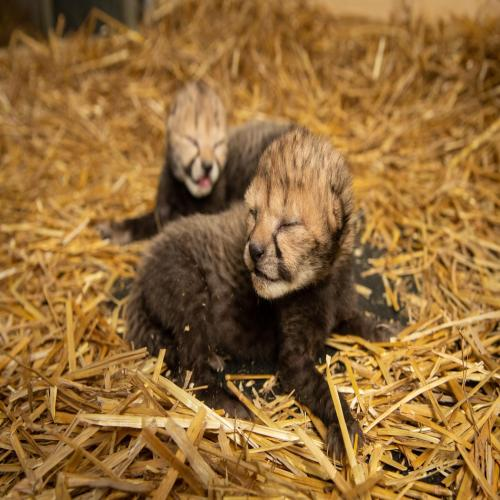cheetah-endangered: (127, 137, 380, 413), (134, 87, 287, 213)
